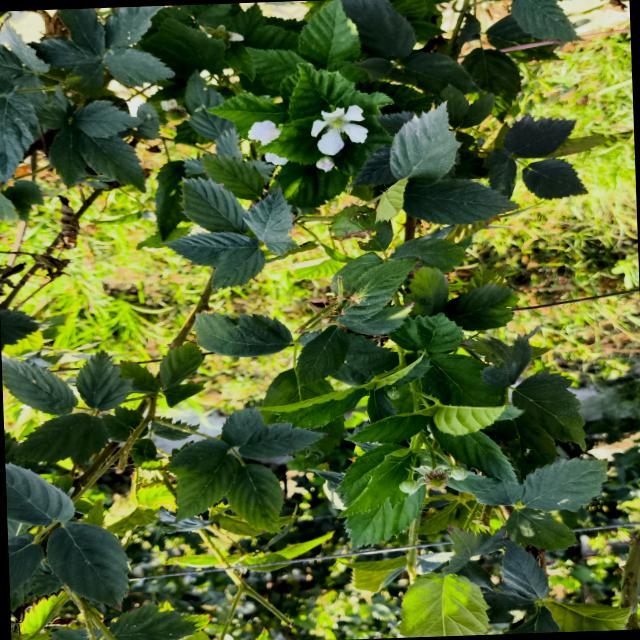boton: (399, 479, 419, 494), (316, 155, 334, 171), (450, 465, 468, 480)
flor: (311, 105, 368, 155), (248, 120, 280, 145), (264, 152, 288, 165)
